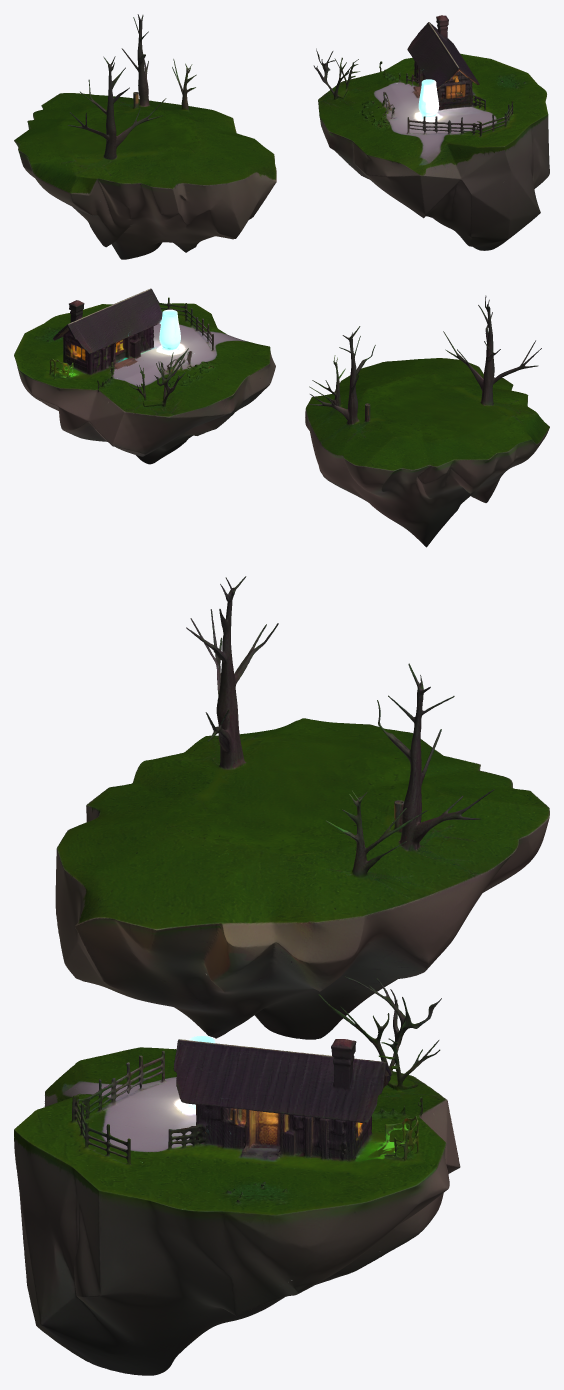
File: Paths.glb
The picture shows the model from 3 angles, top to bottom: view 1: azimuth 30°, elevation 25°; view 2: azimuth 150°, elevation 25°; view 3: azimuth 270°, elevation 25°; orthographic projection. The views are drawn at different scales.
Size of the model in its own units: 1.9 by 0.9548 by 0.9519.
Materials: 1 (1 with a texture image).
